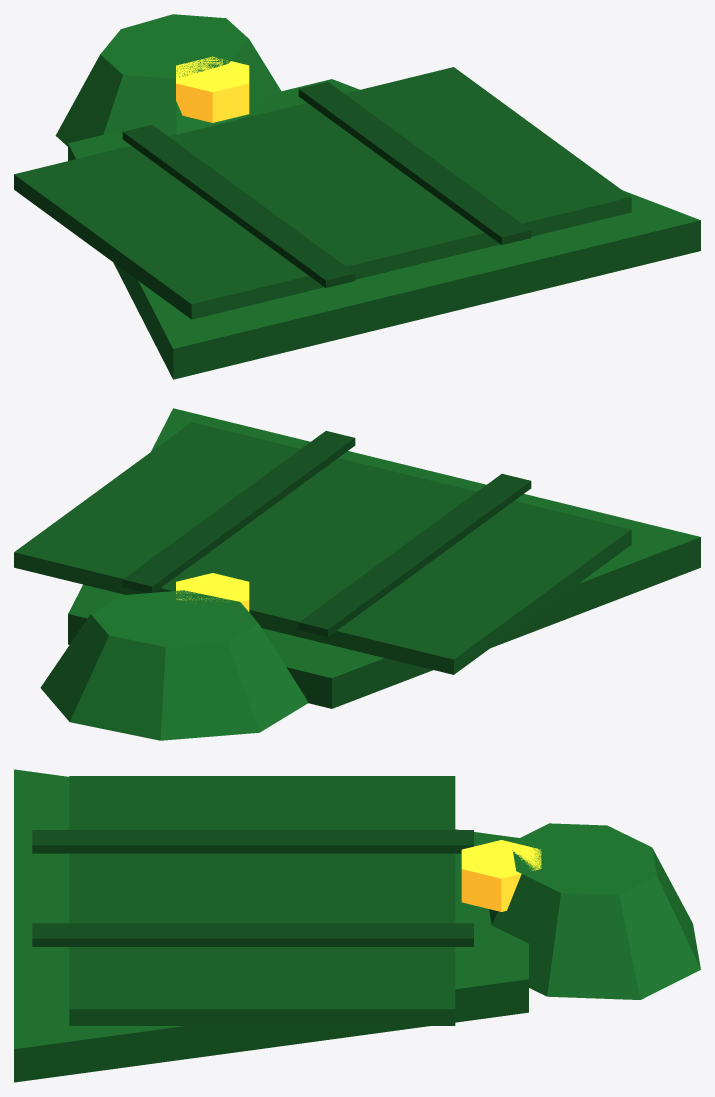
File: elven_cloak.glb
3 views of the same model, one above another, from view 1: azimuth 30°, elevation 25°; view 2: azimuth 150°, elevation 25°; view 3: azimuth 270°, elevation 25° (orthographic). The views are drawn at different scales.
Visible parts, largest first — view 1: elven_cloak; view 2: elven_cloak; view 3: elven_cloak.
Boxes of the visible parts, bbox=[...] form: elven_cloak: bbox=[14, 14, 700, 379]; elven_cloak: bbox=[14, 408, 700, 740]; elven_cloak: bbox=[14, 769, 700, 1082].
Bounding box in the file's own units: 0.9 × 0.125 × 0.9336.
